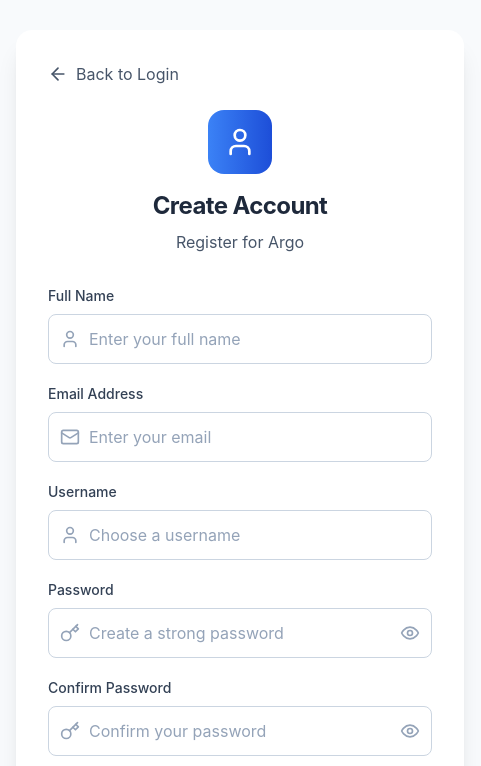
Test: RegistrationForm server error display › shows the success screen when the server returns success
Type "Kavita" into the field with placeholder "Enter your full name" at (240, 339), box [48,314,432,364]
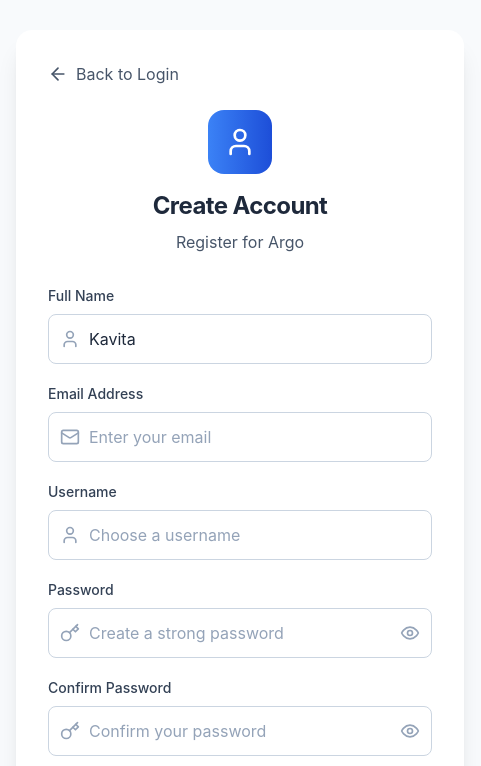
Type "kavita@example.com" into the field with placeholder "Enter your email" at (240, 437), box [48,412,432,462]
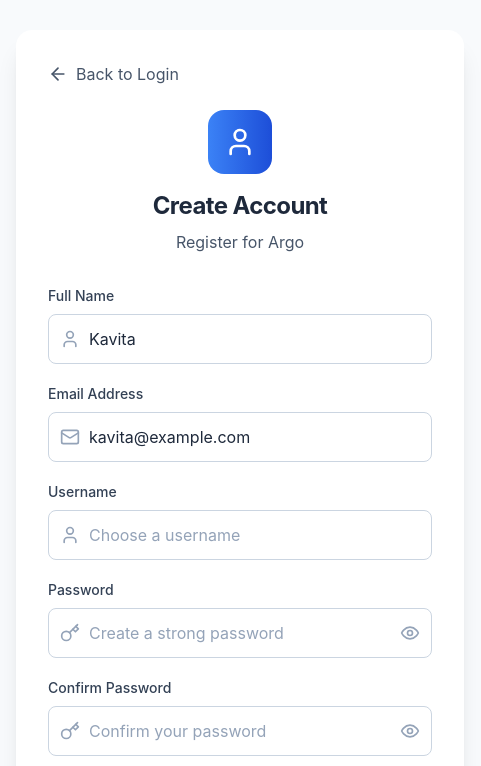
Type "kavita" into the field with placeholder "Choose a username" at (240, 535), box [48,510,432,560]
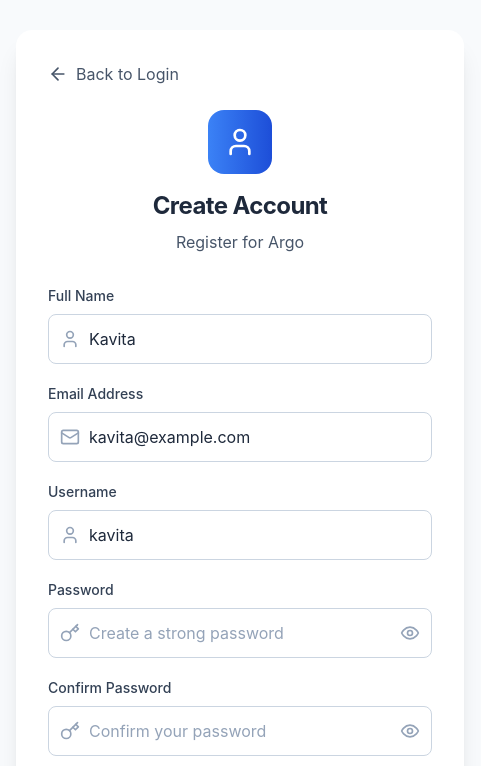
Type "1714Admin$" into the password field with placeholder "Create a strong password" at (240, 633), box [48,608,432,658]
(page scrolled)
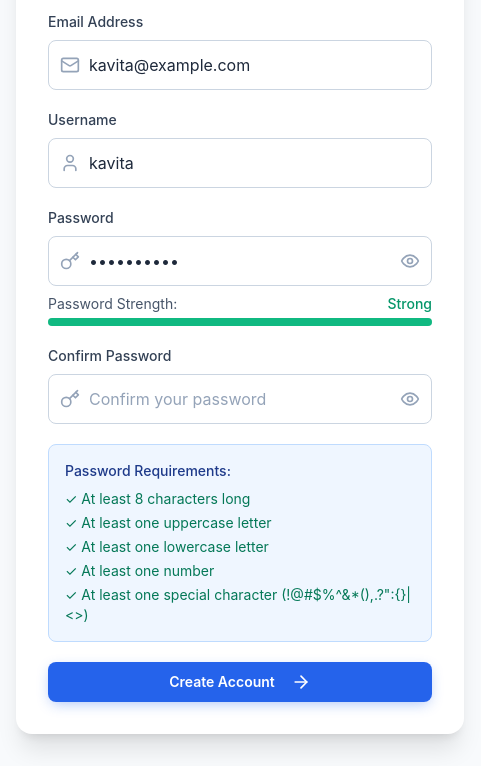
Type "1714Admin$" into the password field with placeholder "Confirm your password" at (240, 399), box [48,374,432,424]
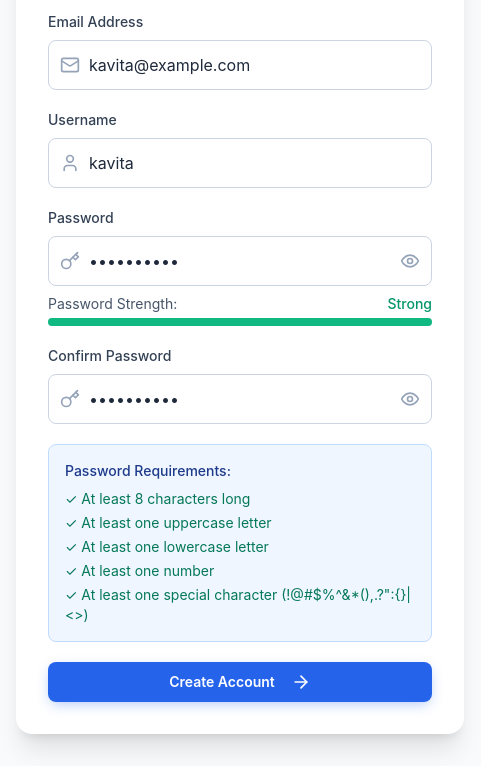
Click the button "Create Account" at (240, 682), box [48,662,432,702]
(page scrolled)
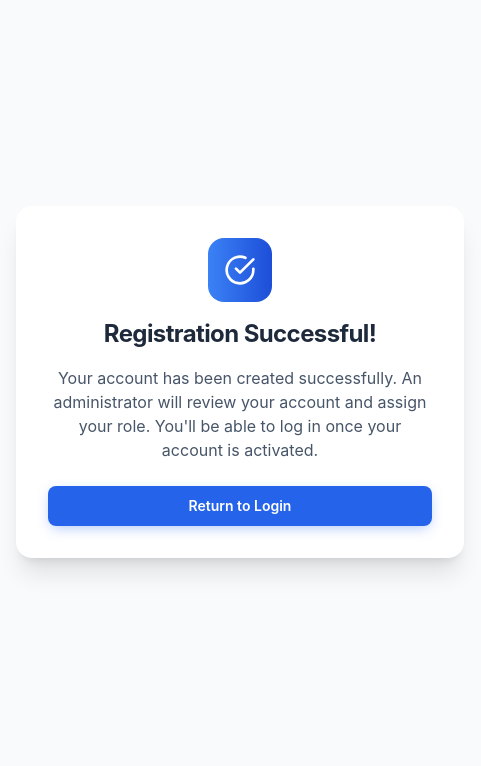
Result: the heading "Registration Successful!" is shown at [104,319,376,348]
